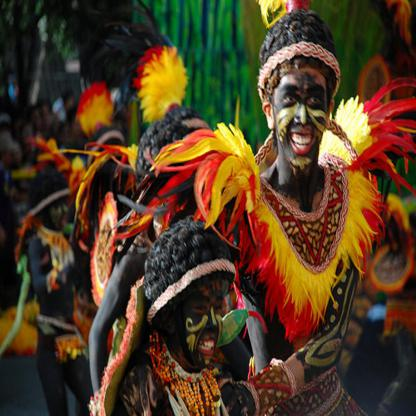face: (272, 52, 330, 168), (181, 264, 230, 367), (45, 181, 70, 232)
